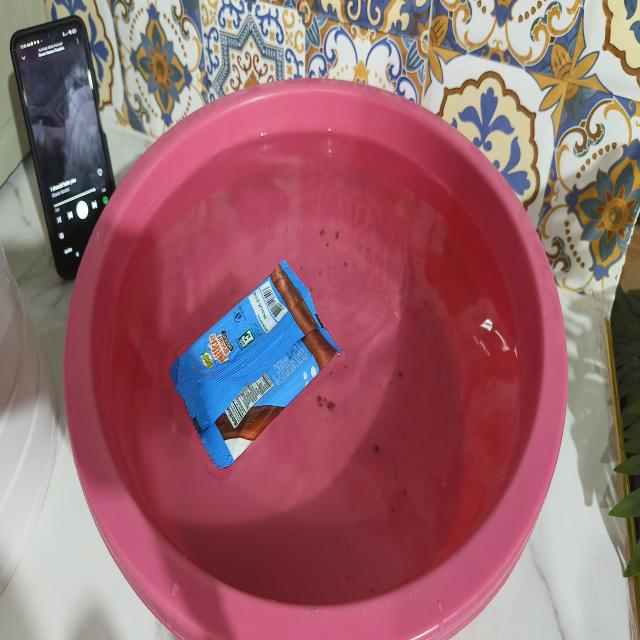Plastic Wrapper: (170, 261, 342, 469)
